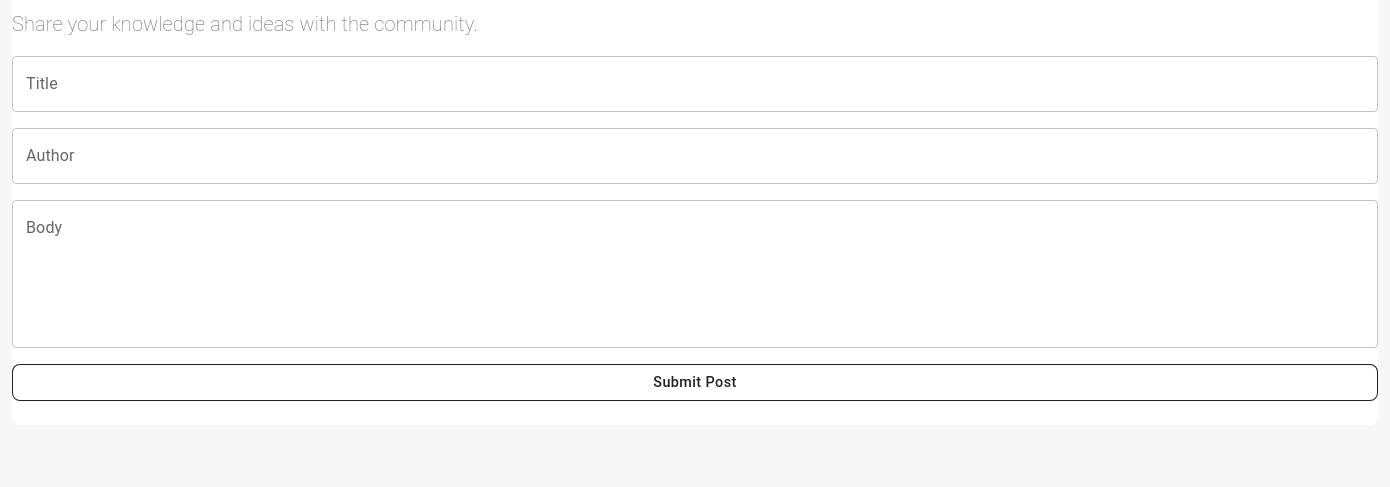
PostForm › shows validation errors when fields are empty
The width and height of the screenshot is (1390, 487).
Click the button "Submit Post". click: (695, 383)
box: [12,364,1378,401]
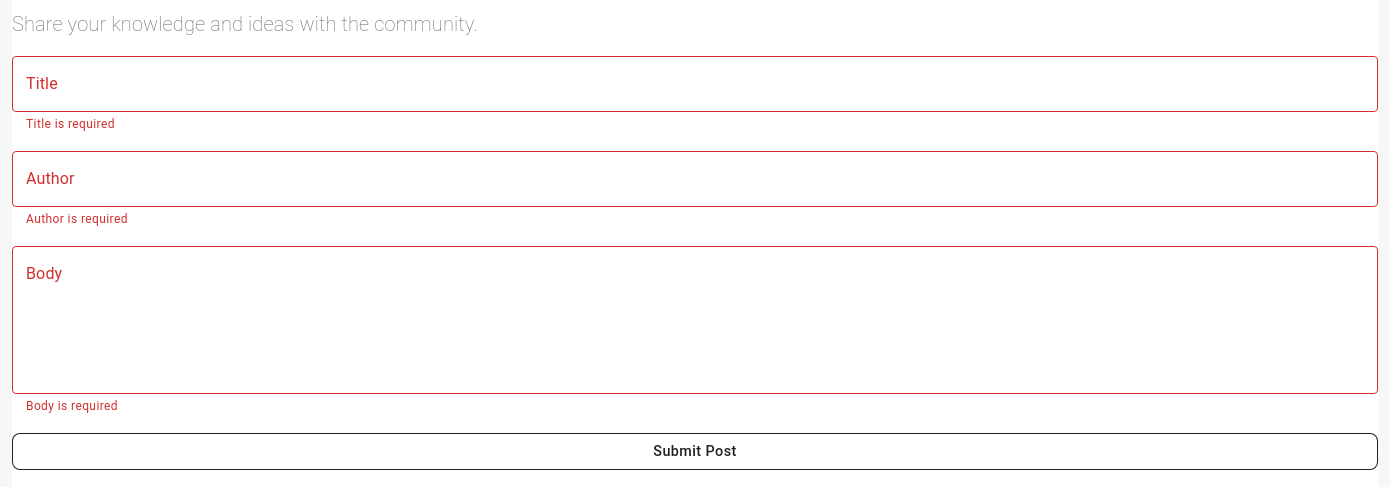
expect the text "Title is required" is shown: met, box [26,117,115,131]
expect the text "Author is required" is shown: met, box [26,212,128,226]
expect the text "Body is required" is shown: met, box [26,399,118,413]
